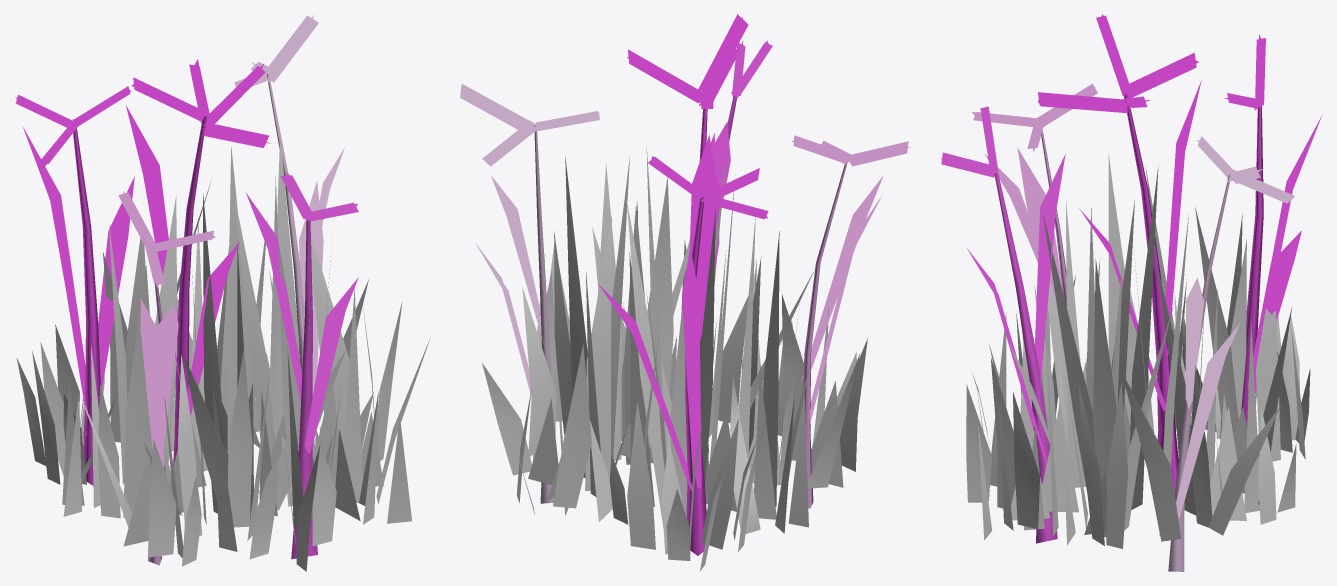
Rendered from G_GrassLong_003_S1.fbx.
3 renders of one model, left to right at view 1: azimuth 30°, elevation 25°; view 2: azimuth 150°, elevation 25°; view 3: azimuth 270°, elevation 25°, orthographic. The views are drawn at different scales.
Visible parts, largest first — view 1: G_GrassLong_003_S1_P01_LOD0, G_GrassLong_003_S1_P02_LOD0; view 2: G_GrassLong_003_S1_P01_LOD0, G_GrassLong_003_S1_P02_LOD0; view 3: G_GrassLong_003_S1_P01_LOD0, G_GrassLong_003_S1_P02_LOD0.
Part boxes in pixels (x1,y1,x2,y2): G_GrassLong_003_S1_P01_LOD0: [16, 135, 430, 571]; G_GrassLong_003_S1_P02_LOD0: [15, 14, 358, 565]; G_GrassLong_003_S1_P01_LOD0: [482, 147, 867, 571]; G_GrassLong_003_S1_P02_LOD0: [460, 14, 910, 555]; G_GrassLong_003_S1_P01_LOD0: [966, 153, 1310, 548]; G_GrassLong_003_S1_P02_LOD0: [941, 14, 1321, 571].
Size of the model in its own units: 117 by 174 by 124.
